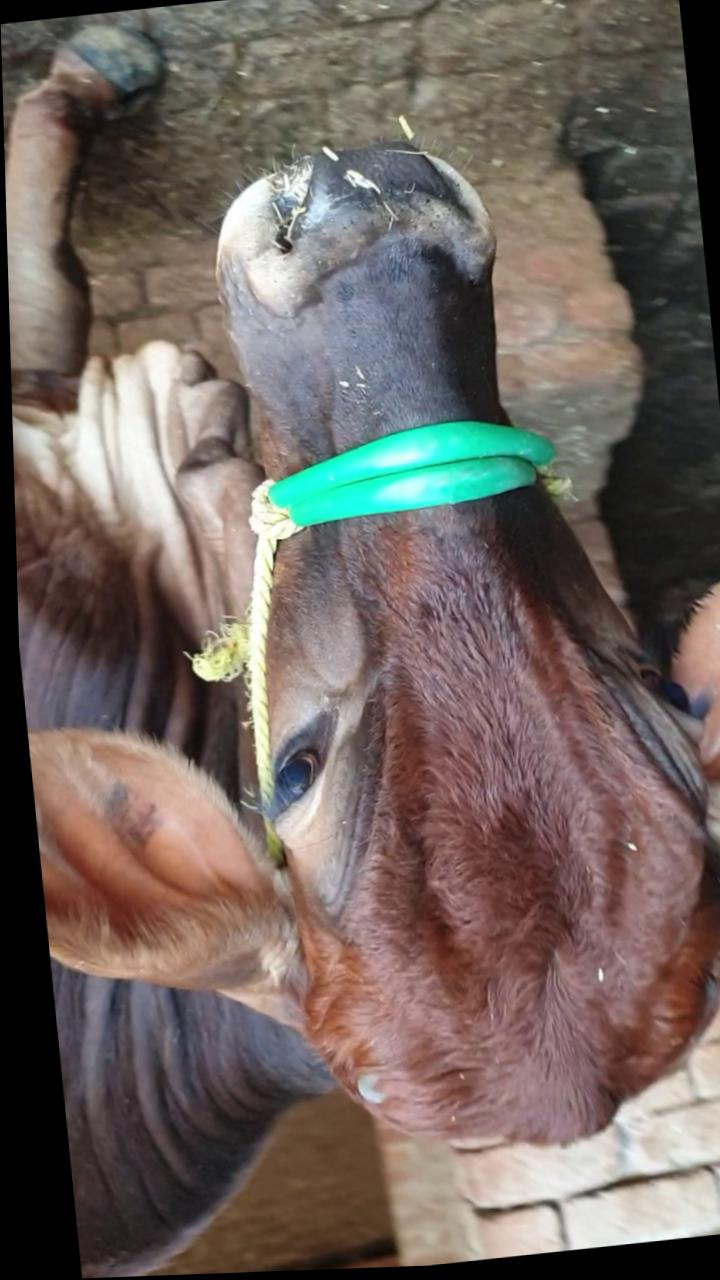cows: (186, 107, 716, 1166)
